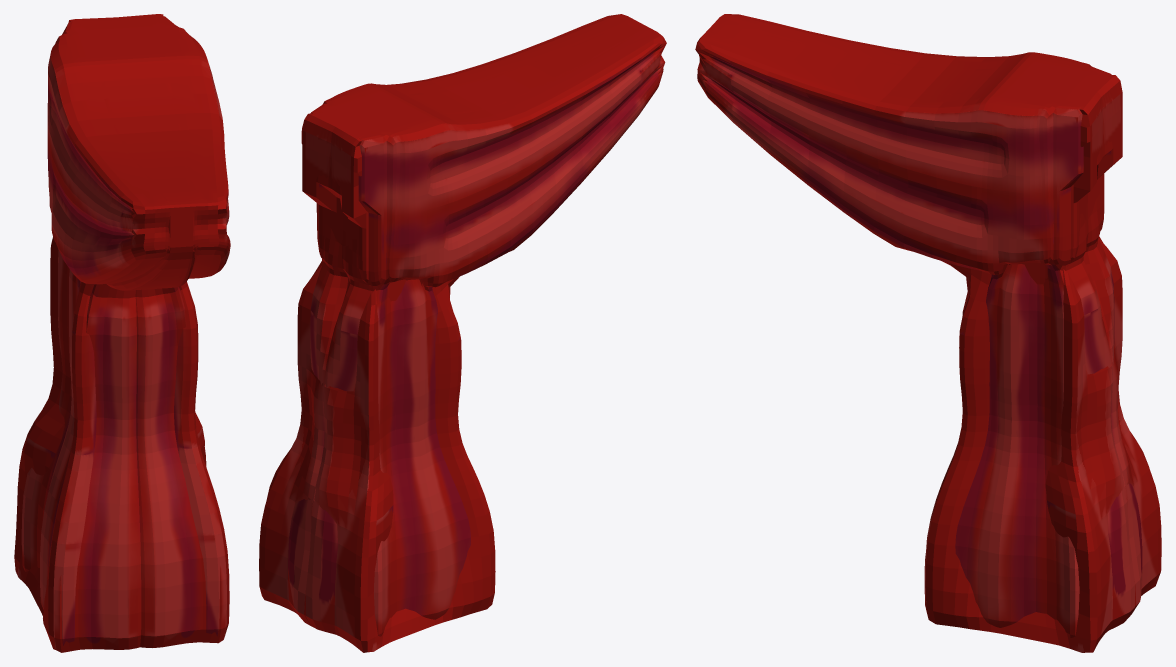
Rendered from curtain.fbx.
3 renders of one model, left to right at view 1: azimuth 30°, elevation 25°; view 2: azimuth 150°, elevation 25°; view 3: azimuth 270°, elevation 25°, orthographic. The views are drawn at different scales.
Visible parts, largest first — view 1: Cube.002; view 2: Cube.002; view 3: Cube.002.
Part boxes in pixels (x1=…): Cube.002: x1=14, y1=14, x2=230, y2=652; Cube.002: x1=259, y1=14, x2=666, y2=652; Cube.002: x1=695, y1=14, x2=1161, y2=652.
Bounding box in the file's own units: 662 × 1334 × 1070.
1 material, 1 textured.
